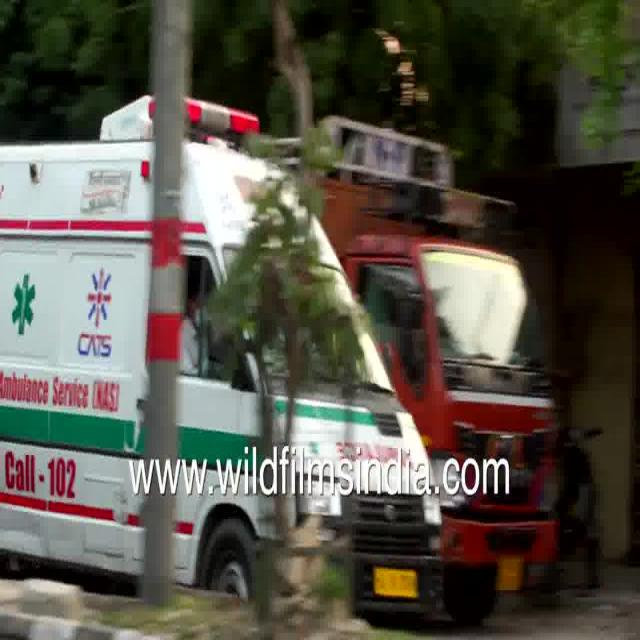ambulance: (0, 79, 404, 431)
